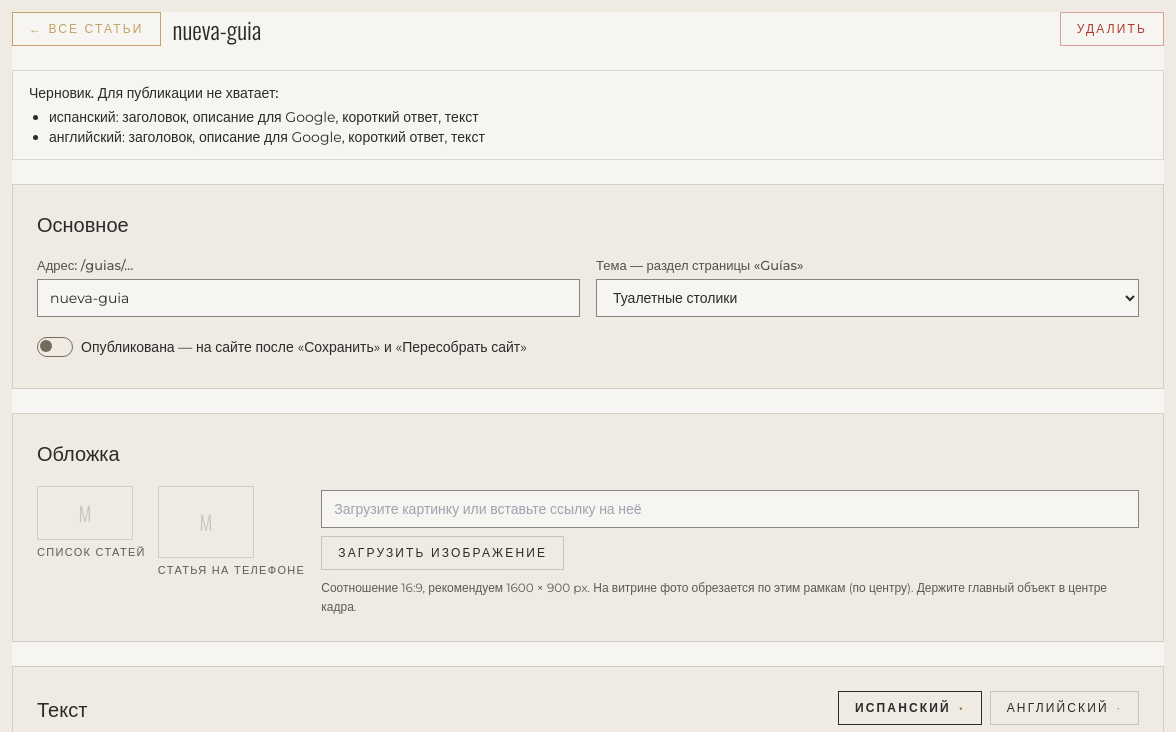
Test case: GuideEditor › turns it into an alert once the article is marked published
What coordinates should you click on to do the following:
click the switch
I would click on:
 (282, 347)
Its box is [37,337,527,357].
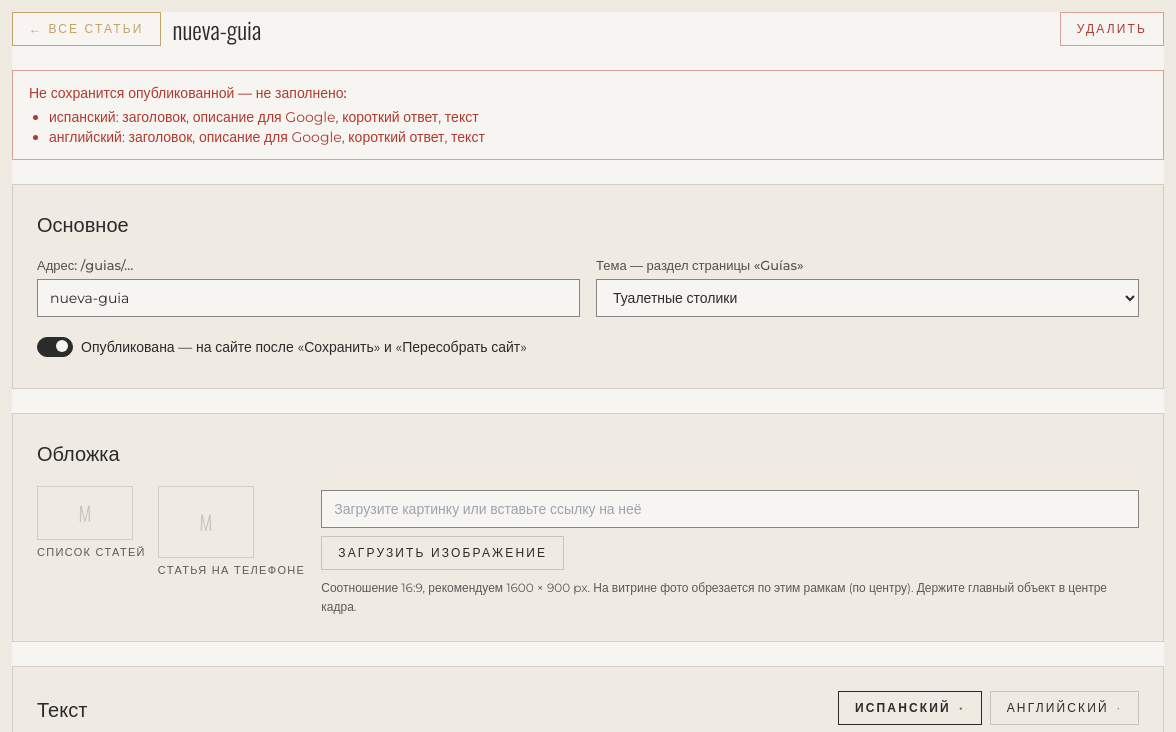
Check: the text "Не сохранится опубликованной — не заполнено:" is shown, box [29,84,347,102]
